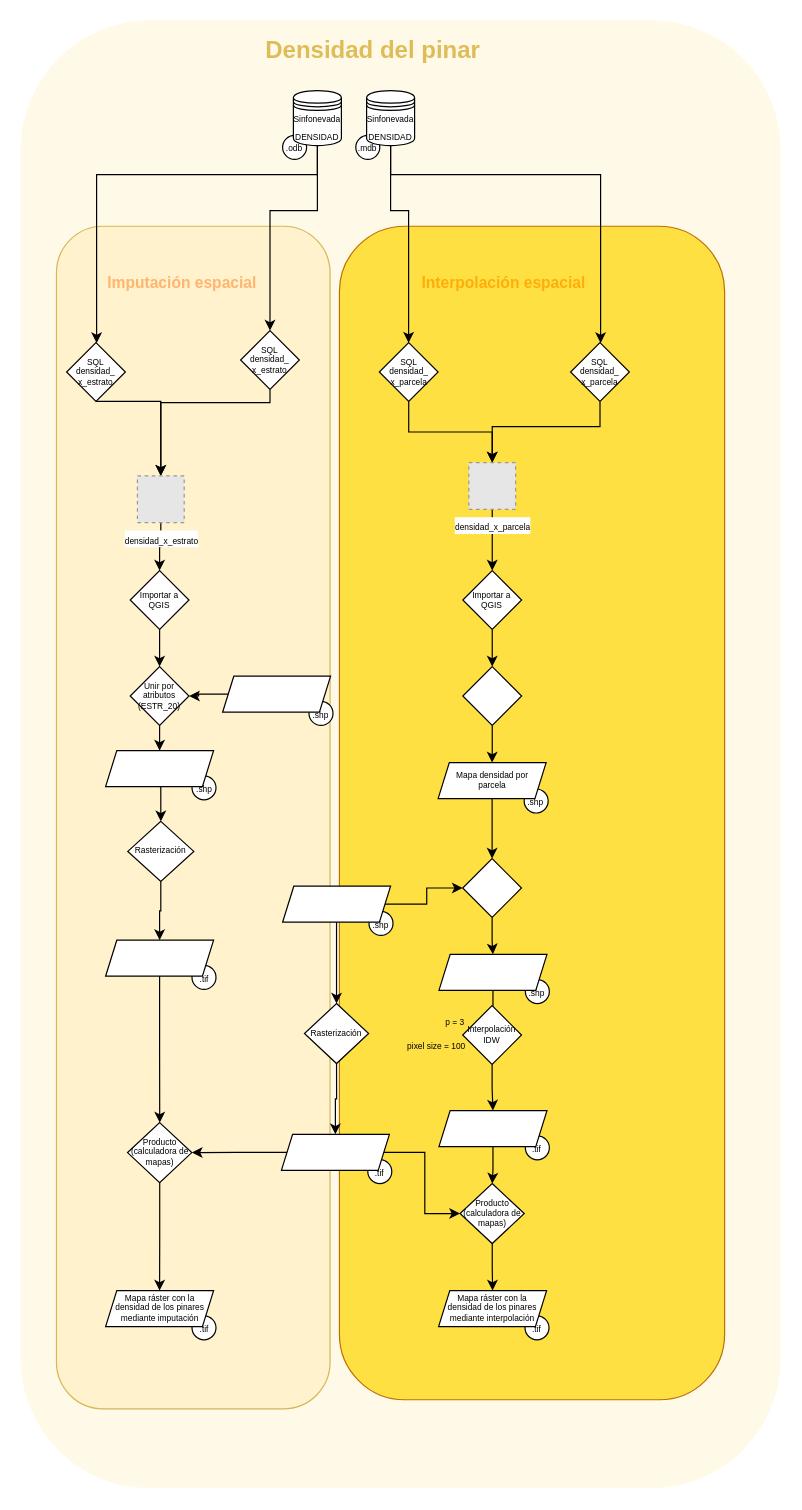
Some shapes in this 802 by 1510 pixel diagram are drawn without their labels. Grey dashed boxes stand in for pictures. The centre of each missing label's shape, as x and y in pixels:
"Convertir a shapefile" goes at point (492, 695).
"Mapa de densidad en parcelas con pinar" goes at point (492, 971).
"Mapa densidad por estrato" goes at point (159, 768).
"Mapa distribución pinares de repoblación" goes at point (336, 903).
"Mapa estratos inventario" goes at point (276, 693).
"Mapa ráster (máscara) de distribución de pinares" goes at point (334, 1151).
"Mapa ráster mostrando la densidad interpolada en todo el territorio" goes at point (492, 1128).
"Raster imputado densidad" goes at point (159, 957).
"Seleccionar parcelas en pinares" goes at point (492, 887).
